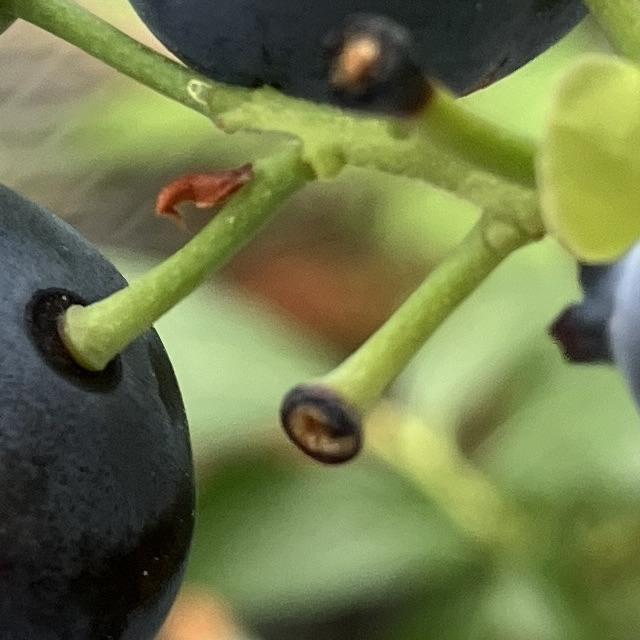Blueberries: (0, 156, 200, 640)
